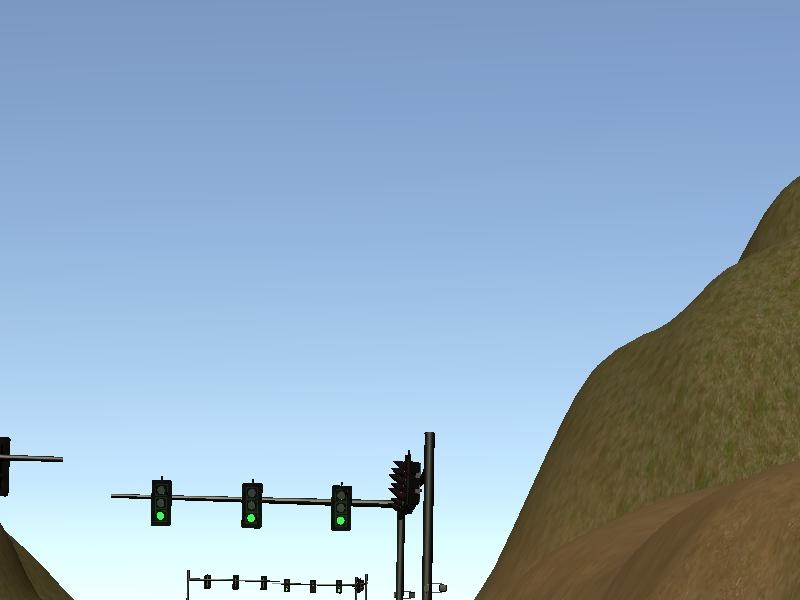traffic_light_green: (124, 476, 397, 532)
